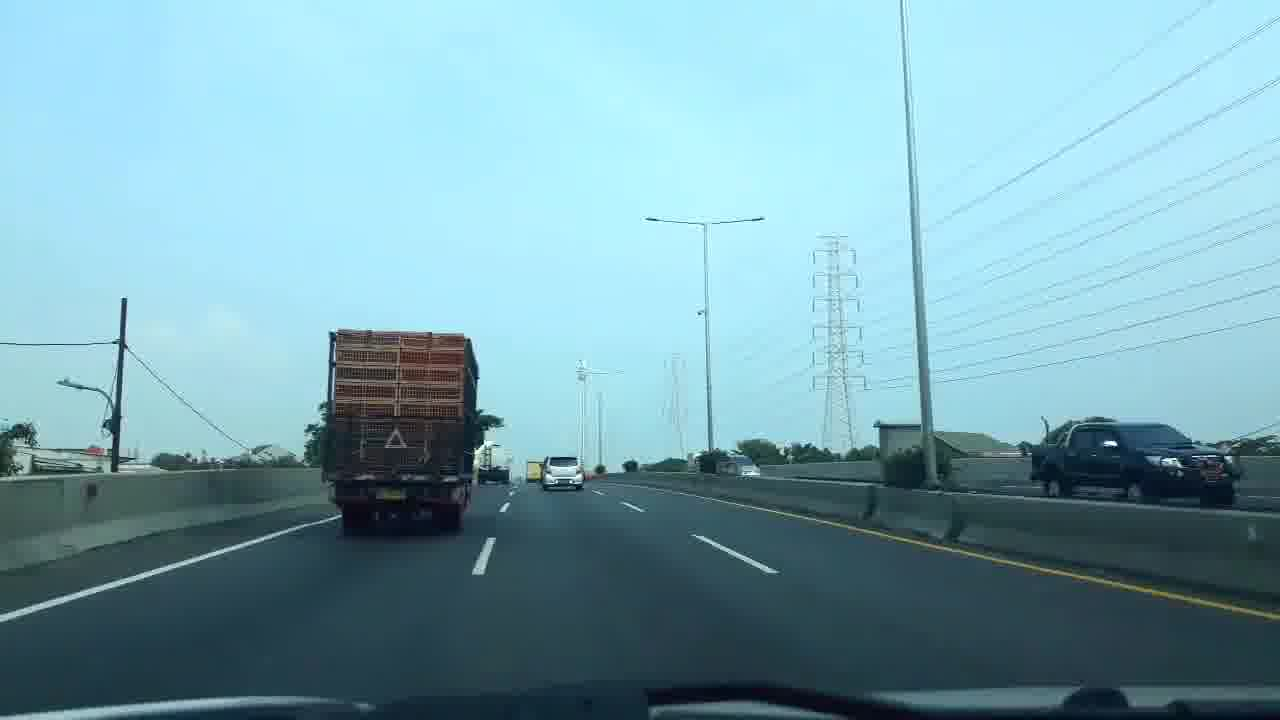plate_positive: (376, 489, 406, 499), (558, 479, 569, 485)
